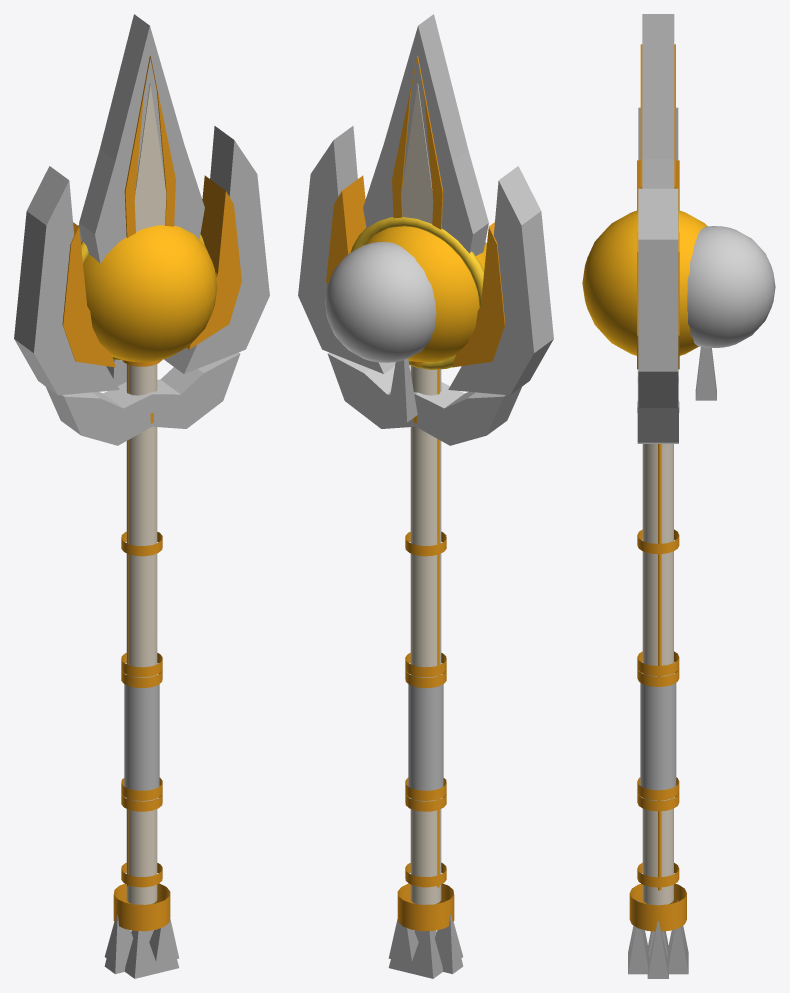
The model's file is pride_spear.obj.
The picture shows the model from 3 angles, left to right: view 1: azimuth 30°, elevation 25°; view 2: azimuth 150°, elevation 25°; view 3: azimuth 270°, elevation 25°; orthographic projection.
Visible parts, largest first — view 1: living_sun, obsidian_crown, left_outer_cage, marble_shaft, lower_obsidian_cradle, right_outer_cage, right_gold_rail, obsidian_grip, left_gold_rail, marble_crown_inlay, gold_pommel, left_gold_crown_edge (+5 smaller); view 2: obsidian_crown, left_outer_cage, all_consuming_pride, marble_shaft, lower_obsidian_cradle, right_outer_cage, living_sun, obsidian_grip, left_gold_rail, marble_crown_inlay, right_gold_rail, eclipse_corona (+8 smaller); view 3: right_outer_cage, all_consuming_pride, marble_shaft, living_sun, obsidian_crown, obsidian_grip, gold_pommel, lower_obsidian_cradle, right_gold_channel, judgement_tooth, pommel_claw_0, pommel_claw_5 (+9 smaller).
Part boxes in pixels (x1,y1,x2,y2): living_sun: [83, 225, 217, 362]; obsidian_crown: [79, 14, 204, 263]; left_outer_cage: [14, 166, 119, 395]; marble_shaft: [126, 364, 157, 904]; lower_obsidian_cradle: [46, 352, 240, 445]; right_outer_cage: [164, 126, 269, 373]; right_gold_rail: [187, 175, 241, 349]; obsidian_grip: [124, 684, 159, 790]; left_gold_rail: [62, 222, 115, 367]; marble_crown_inlay: [134, 83, 166, 232]; gold_pommel: [113, 883, 170, 931]; left_gold_crown_edge: [124, 56, 150, 237]; obsidian_crown: [363, 14, 488, 255]; left_outer_cage: [448, 166, 553, 395]; all_consuming_pride: [324, 242, 436, 362]; marble_shaft: [410, 366, 441, 904]; lower_obsidian_cradle: [327, 352, 521, 445]; right_outer_cage: [298, 126, 395, 373]; living_sun: [364, 226, 486, 362]; obsidian_grip: [408, 684, 443, 790]; left_gold_rail: [452, 222, 505, 367]; marble_crown_inlay: [401, 83, 433, 223]; right_gold_rail: [326, 175, 366, 285]; eclipse_corona: [350, 217, 484, 369]; right_outer_cage: [638, 188, 678, 407]; all_consuming_pride: [687, 226, 775, 347]; marble_shaft: [642, 444, 673, 905]; living_sun: [582, 210, 707, 355]; obsidian_crown: [642, 14, 674, 188]; obsidian_grip: [640, 683, 676, 790]; gold_pommel: [629, 883, 686, 931]; lower_obsidian_cradle: [637, 369, 678, 443]; right_gold_channel: [658, 444, 661, 890]; judgement_tooth: [695, 347, 716, 400]; pommel_claw_0: [647, 921, 668, 978]; pommel_claw_5: [668, 927, 688, 974].
Bounding box in the file's own units: 2.06 × 7.86 × 1.45.
